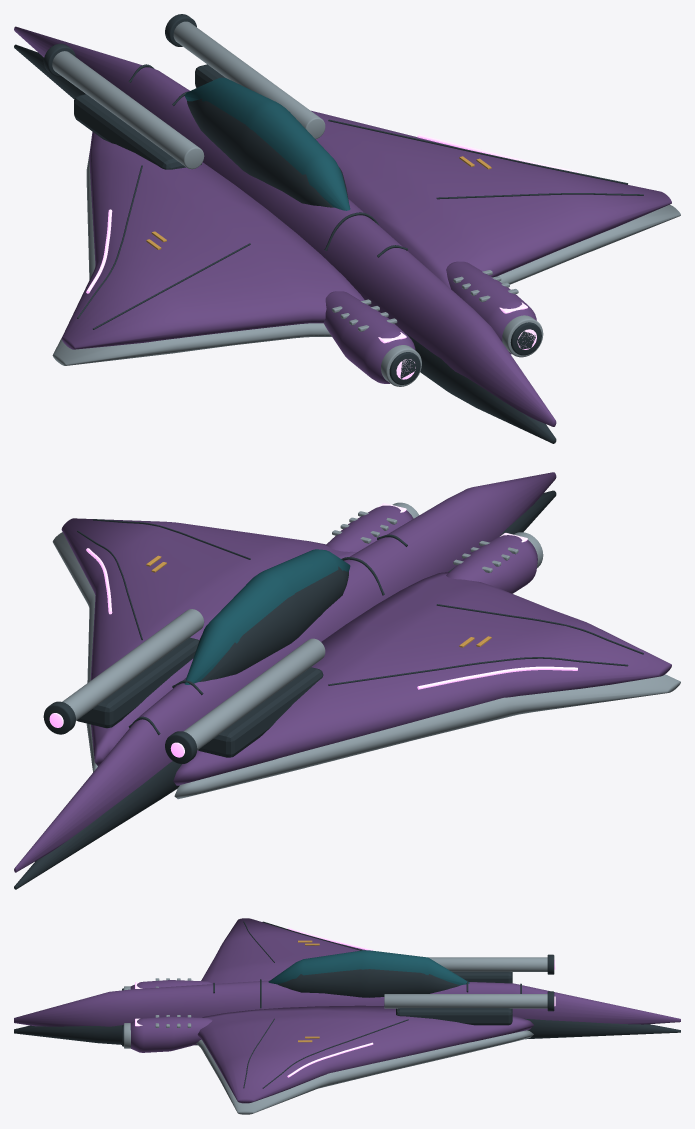
Rendered from boss-2.glb.
3 renders of one model, top to bottom at view 1: azimuth 30°, elevation 25°; view 2: azimuth 150°, elevation 25°; view 3: azimuth 270°, elevation 25°, orthographic. The views are drawn at different scales.
Visible parts, largest first — view 1: SM_Wing_Left, SM_Hull, SM_Wing_Right, SM_Weapon_Left, SM_Engine_Left, SM_Engine_Right, SM_Weapon_Right; view 2: SM_Wing_Left, SM_Hull, SM_Wing_Right, SM_Weapon_Left, SM_Weapon_Right, SM_Engine_Left, SM_Engine_Right; view 3: SM_Hull, SM_Wing_Right, SM_Wing_Left, SM_Weapon_Right, SM_Engine_Right, SM_Weapon_Left, SM_Engine_Left.
Boxes of the visible parts, x1,y1,x2,y2 form: SM_Wing_Left: (52,131,364,365); SM_Hull: (14,26,556,443); SM_Wing_Right: (311,110,680,288); SM_Weapon_Left: (43,43,204,169); SM_Engine_Left: (324,291,421,386); SM_Engine_Right: (446,261,543,357); SM_Weapon_Right: (165,14,325,139); SM_Wing_Left: (173,572,680,799); SM_Hull: (14,472,556,889); SM_Wing_Right: (52,518,356,772); SM_Weapon_Left: (165,638,325,764); SM_Weapon_Right: (43,609,204,734); SM_Engine_Left: (446,532,543,593); SM_Engine_Right: (325,502,419,551); SM_Hull: (14,950,680,1045); SM_Wing_Right: (196,1005,533,1114); SM_Wing_Left: (201,918,373,983); SM_Weapon_Right: (384,991,555,1025); SM_Engine_Right: (122,1015,212,1052); SM_Weapon_Left: (428,954,555,983); SM_Engine_Left: (122,978,211,990).
Size of the model in its own units: 6.59 by 1.53 by 10.
